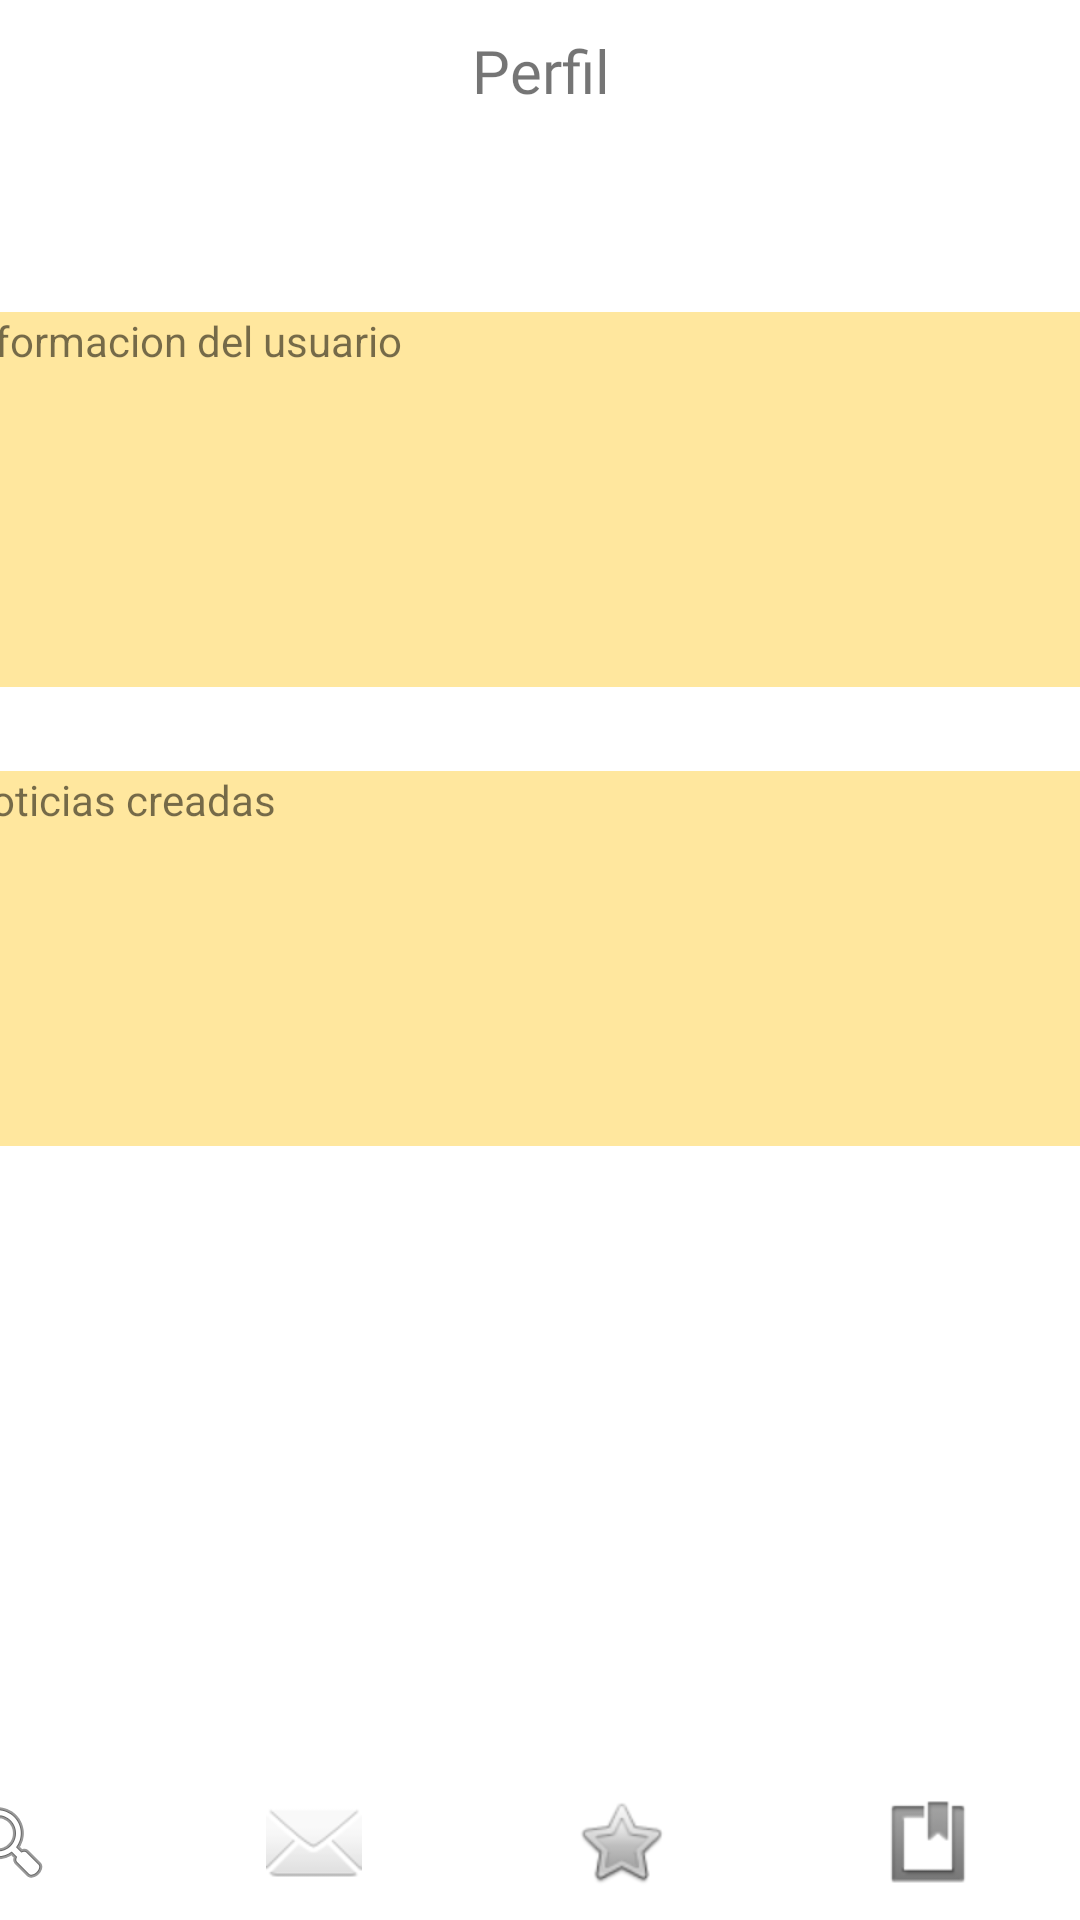

Locate icon controls on the screen. Image size 1080px×1920px, boxes as [left=x1, top=y1, right=x2, bottom=y2].
email: [left=266, top=1811, right=362, bottom=1877]
star: [left=582, top=1804, right=662, bottom=1882]
